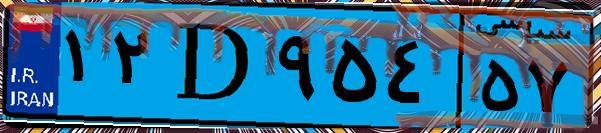1: (57, 26, 110, 100)
2: (110, 28, 158, 98)
4: (385, 28, 445, 110)
5: (330, 28, 385, 110), (475, 38, 525, 113)
7: (525, 38, 570, 115)
9: (270, 28, 330, 110)
D: (158, 12, 270, 120)
